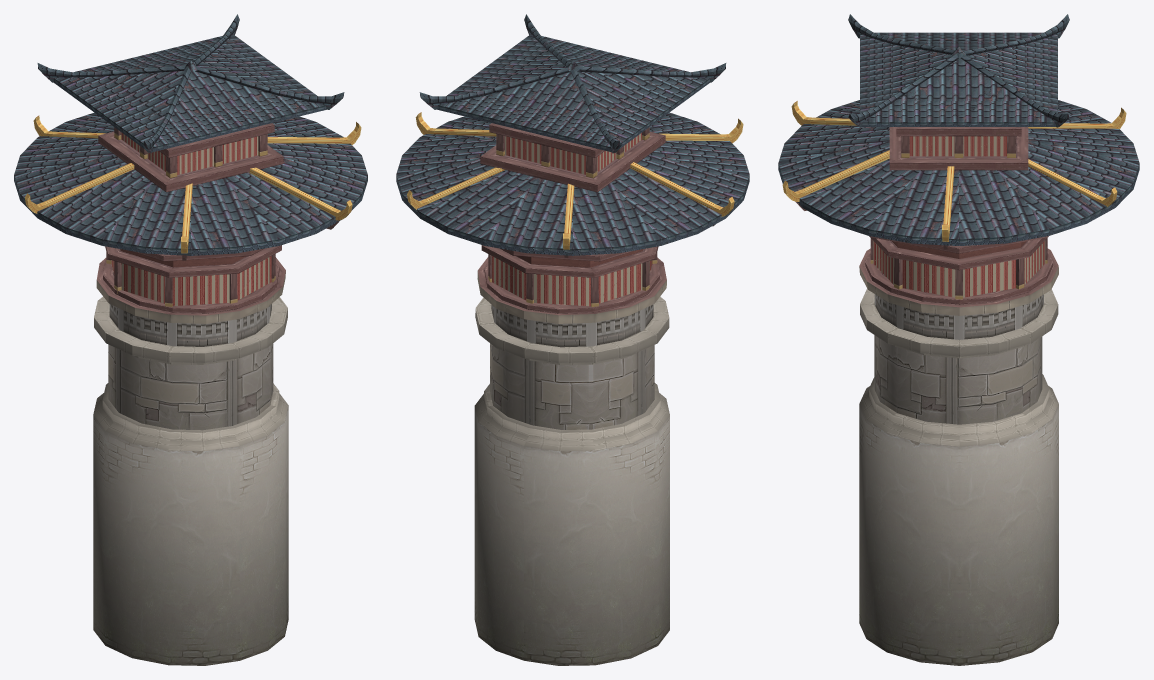
The model's file is mod_zlc_jianzhu062_xy.FBX.
3 views of the same model, side by side, from view 1: azimuth 30°, elevation 25°; view 2: azimuth 150°, elevation 25°; view 3: azimuth 270°, elevation 25° (orthographic). The views are drawn at different scales.
Visible parts, largest first — view 1: mod_zlc_jianzhu062_xy; view 2: mod_zlc_jianzhu062_xy; view 3: mod_zlc_jianzhu062_xy.
Part boxes in pixels (x1,y1,x2,y2): mod_zlc_jianzhu062_xy: (14, 14, 367, 665); mod_zlc_jianzhu062_xy: (396, 14, 749, 665); mod_zlc_jianzhu062_xy: (778, 14, 1139, 665).
Size of the model in its own units: 10278 by 17058 by 9686.
5 materials, 5 textured.
